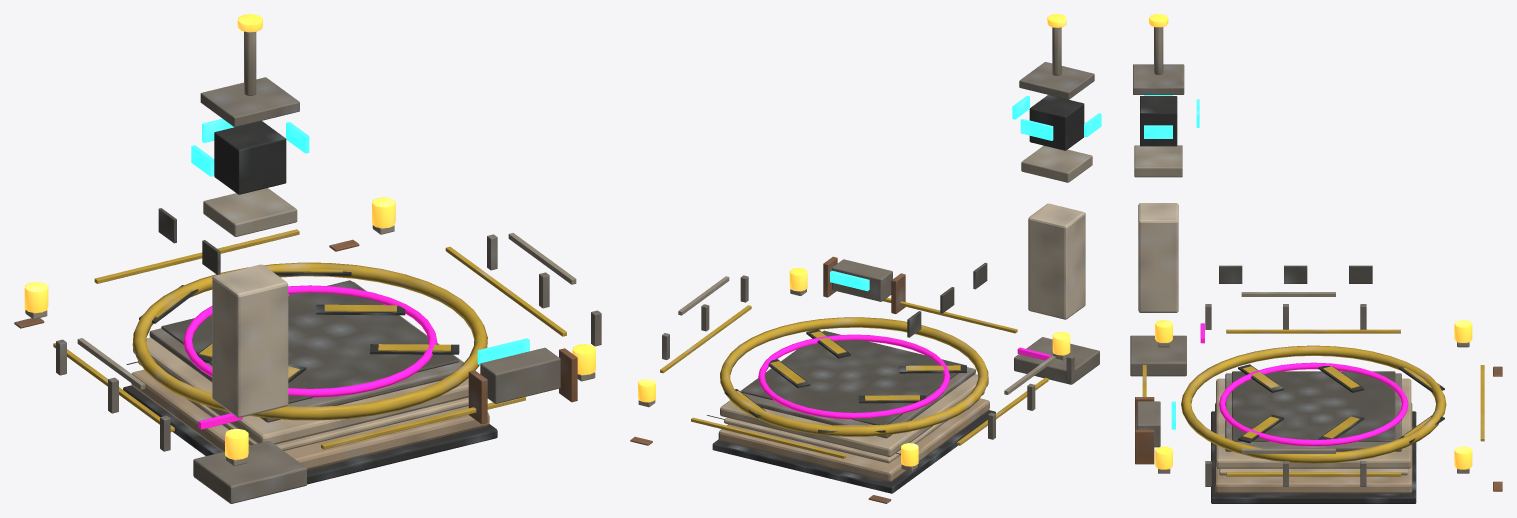
The model's file is starport.glb.
3 views of the same model, side by side, from view 1: azimuth 30°, elevation 25°; view 2: azimuth 150°, elevation 25°; view 3: azimuth 270°, elevation 25° (orthographic). The views are drawn at different scales.
Visible parts, largest first — view 1: Sandwar3D; view 2: Sandwar3D; view 3: Sandwar3D.
Part boxes in pixels (x1,y1,x2,y2): Sandwar3D: [14, 14, 601, 503]; Sandwar3D: [630, 14, 1101, 503]; Sandwar3D: [1130, 14, 1502, 503].
Size of the model in its own units: 2.73 by 3.06 by 2.69.
12 materials, 11 textured.
